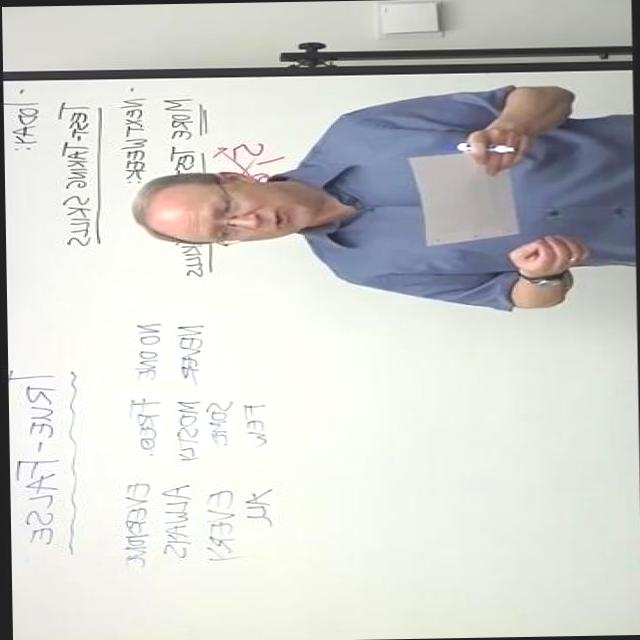Instructor: (126, 104, 638, 302)
White-board: (7, 69, 640, 640)
